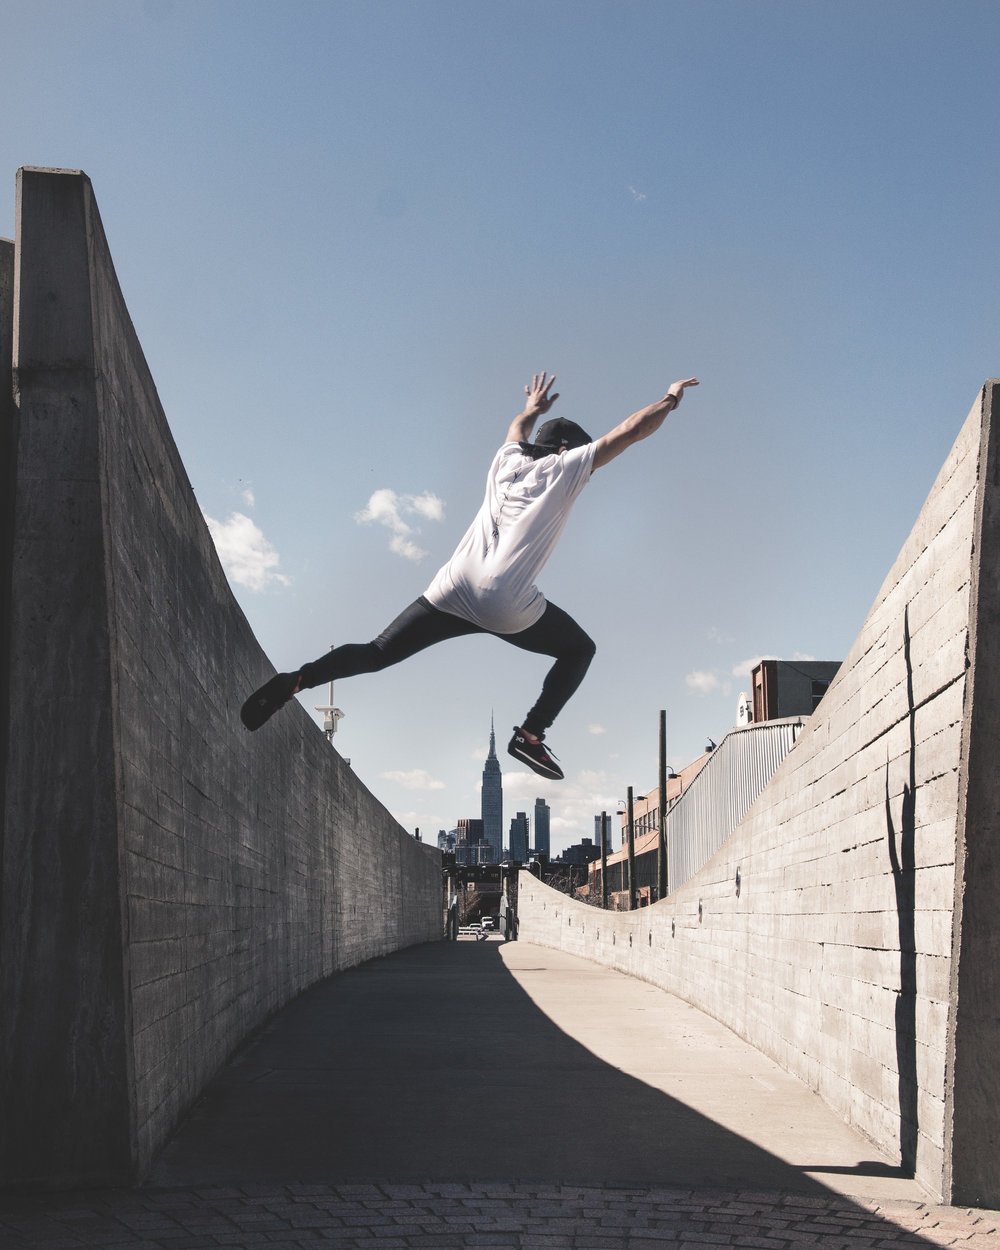Person: (234, 368, 704, 789)
